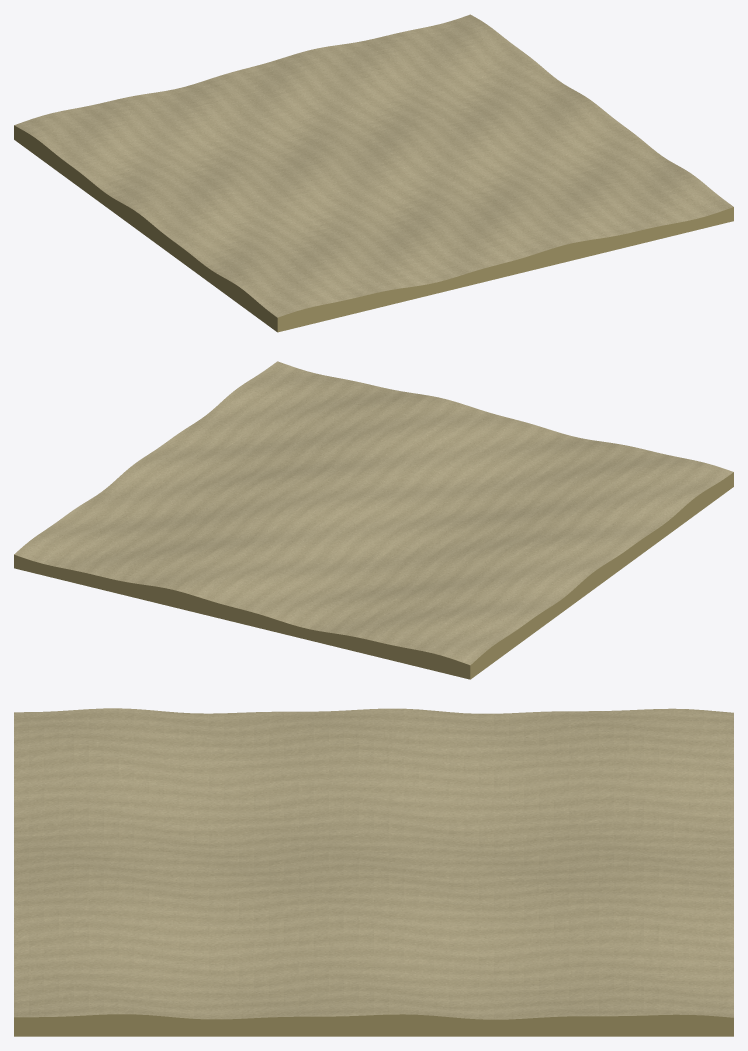
The model's file is assumed-seabed.obj.
3 views of the same model, one above another, from view 1: azimuth 30°, elevation 25°; view 2: azimuth 150°, elevation 25°; view 3: azimuth 270°, elevation 25° (orthographic). The views are drawn at different scales.
Size of the model in its own units: 128 by 5.22 by 128.
